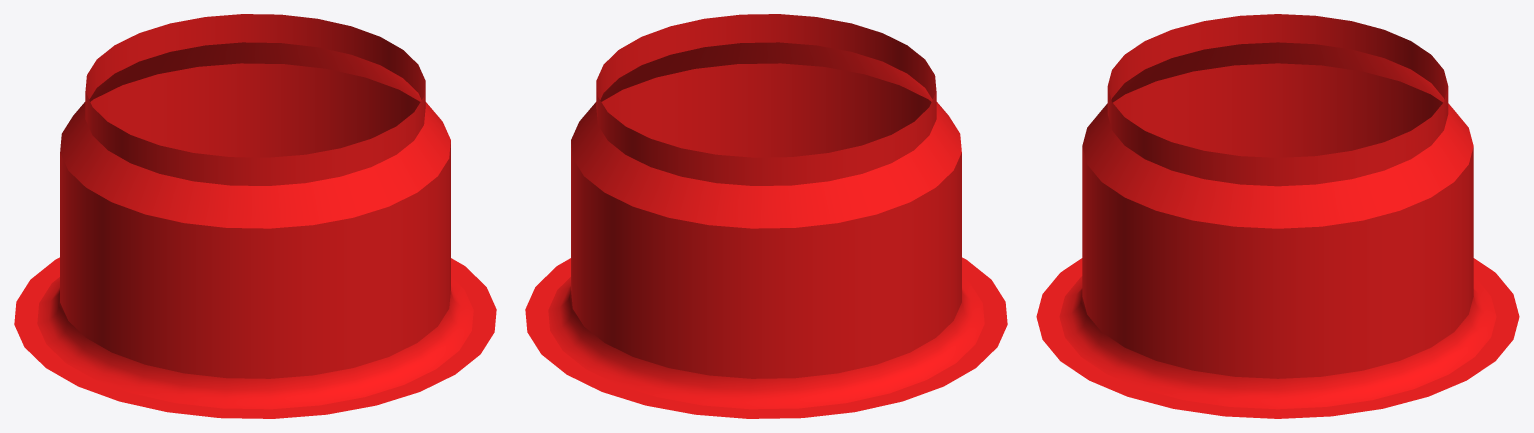
Rendered from diffuzorKorp.FBX.
3 renders of one model, left to right at view 1: azimuth 30°, elevation 25°; view 2: azimuth 150°, elevation 25°; view 3: azimuth 270°, elevation 25°, orthographic.
Visible parts, largest first — view 1: diffuzorKorp; view 2: diffuzorKorp; view 3: diffuzorKorp.
Part boxes in pixels (bbox=[...]): diffuzorKorp: bbox=[14, 14, 496, 418]; diffuzorKorp: bbox=[525, 14, 1007, 418]; diffuzorKorp: bbox=[1036, 14, 1519, 418].
Size of the model in its own units: 612 by 323 by 612.
